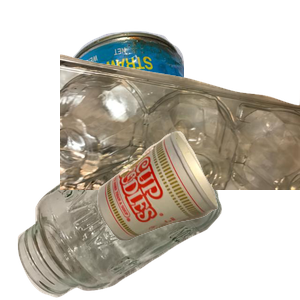glass: (15, 126, 229, 300)
metal: (60, 28, 300, 208)
plastic: (60, 52, 300, 232)
trash: (95, 129, 300, 300)
